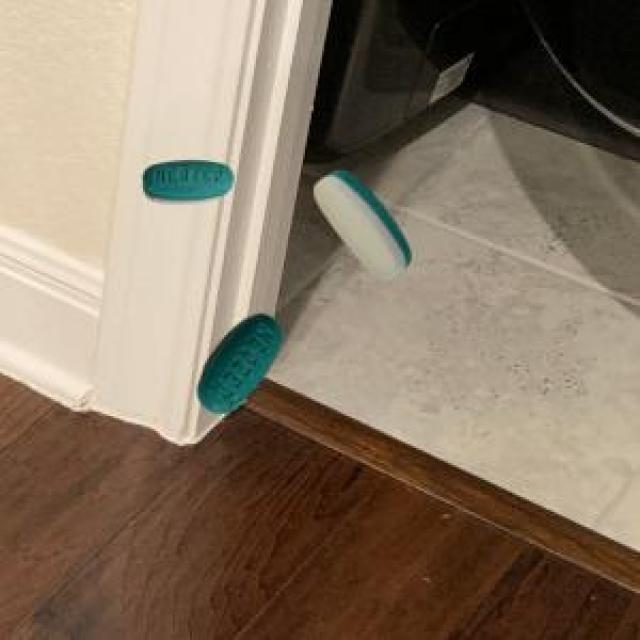Neozep: (304, 151, 424, 290), (179, 307, 291, 430), (134, 151, 246, 213)
